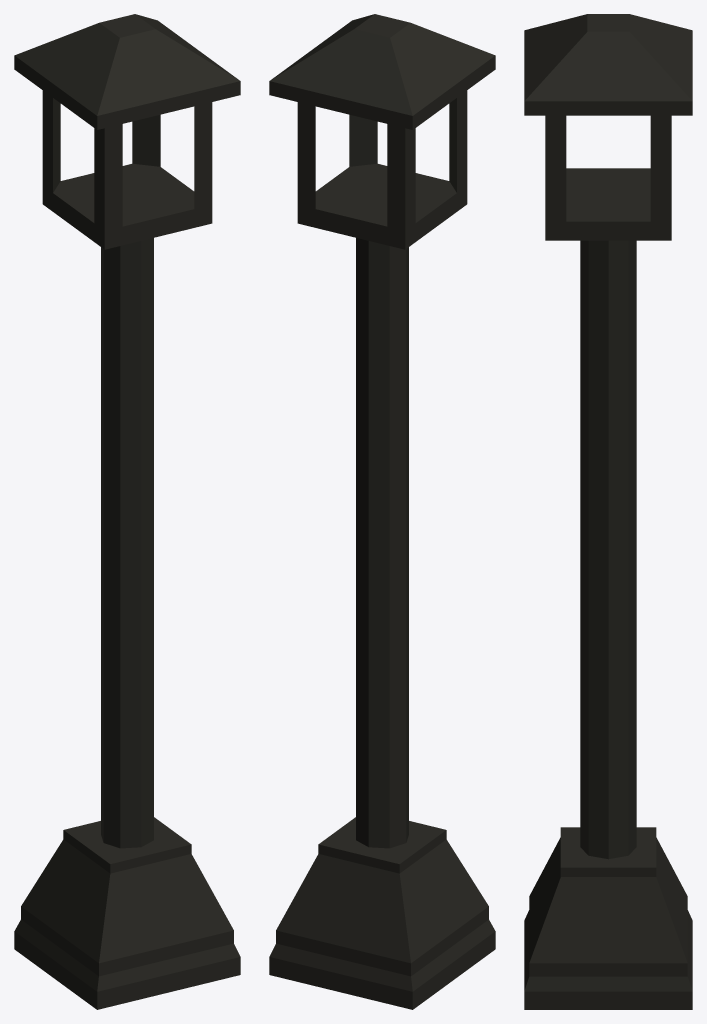
Rendered from garden_lamp.fbx.
3 views of the same model, side by side, from view 1: azimuth 30°, elevation 25°; view 2: azimuth 150°, elevation 25°; view 3: azimuth 270°, elevation 25° (orthographic).
Parts seen in each view (by area): view 1: garden_lamp; view 2: garden_lamp; view 3: garden_lamp.
Boxes of the visible parts, x1,y1,x2,y2 form: garden_lamp: (14,14,240,1009); garden_lamp: (269,14,495,1009); garden_lamp: (524,14,692,1009).
Size of the model in its own units: 0.4 by 2.5 by 0.4.
1 material, 1 textured.
